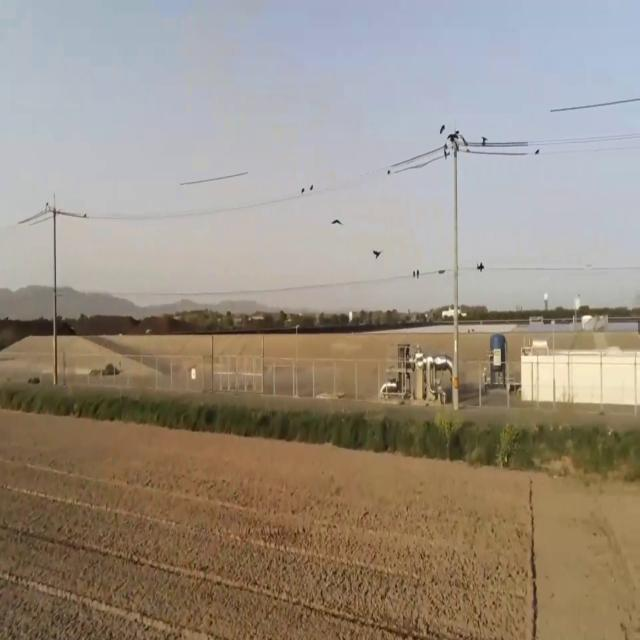bird: (331, 210, 343, 235), (372, 242, 383, 268), (476, 254, 484, 279), (439, 117, 446, 139)
